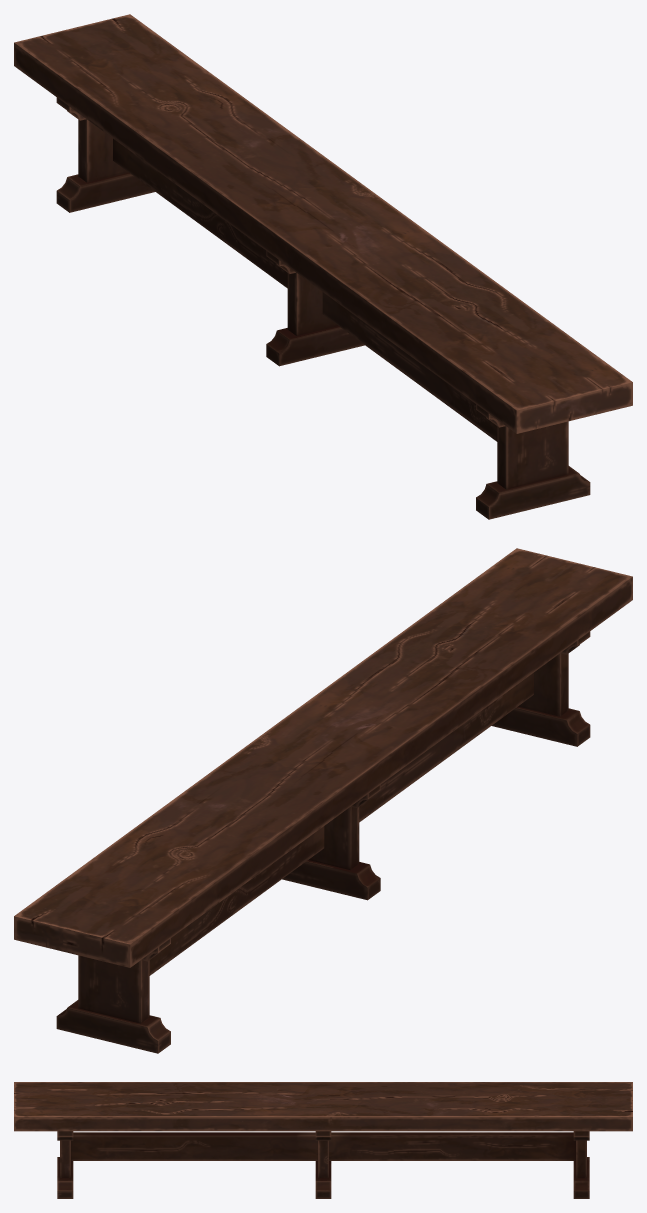
File: Bench.fbx
3 views of the same model, one above another, from view 1: azimuth 30°, elevation 25°; view 2: azimuth 150°, elevation 25°; view 3: azimuth 270°, elevation 25° (orthographic). The views are drawn at different scales.
Visible parts, largest first — view 1: Bench; view 2: Bench; view 3: Bench.
Boxes of the visible parts, <box> form: Bench: <box>14,14,632,519</box>; Bench: <box>14,548,632,1053</box>; Bench: <box>14,1082,632,1198</box>.
Size of the model in its own units: 0.4002 by 0.4503 by 3.
Materials: 1 (1 with a texture image).
